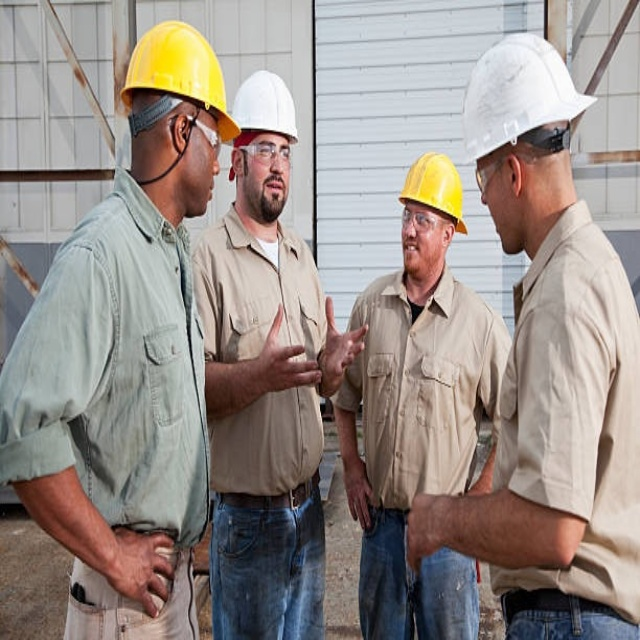Gafas: (473, 147, 516, 195), (176, 111, 225, 152), (236, 141, 294, 165), (399, 207, 452, 229)
Sin_guantes: (112, 527, 179, 618), (260, 300, 322, 391), (322, 292, 371, 394), (345, 467, 377, 530)
Sin_mascara: (191, 169, 221, 213), (258, 174, 288, 204), (403, 237, 419, 268)
